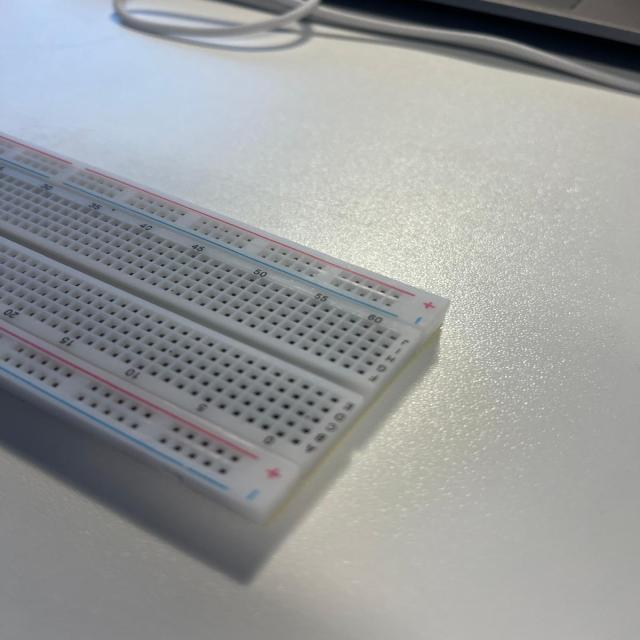BreadBoard: (16, 137, 471, 541)
